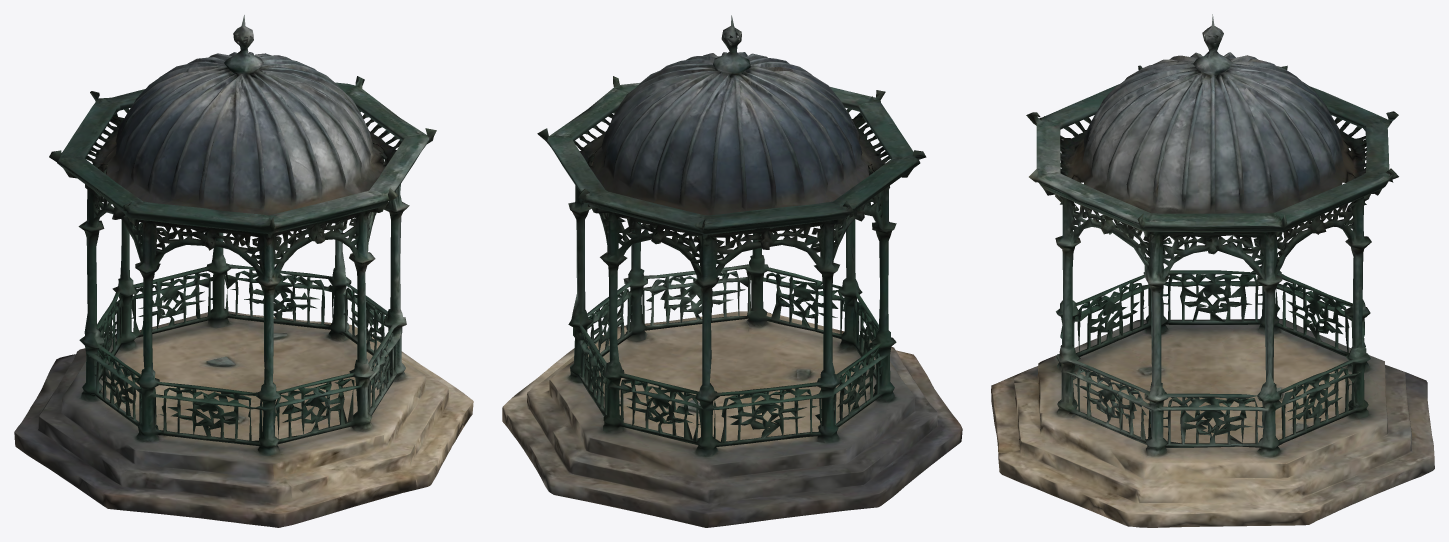
Rendered from gazebo.glb.
The picture shows the model from 3 angles, left to right: view 1: azimuth 30°, elevation 25°; view 2: azimuth 150°, elevation 25°; view 3: azimuth 270°, elevation 25°; orthographic projection.
Visible parts, largest first — view 1: Part; view 2: Part; view 3: Part.
Boxes of the visible parts, box(x1,y1,x2,y2) form: Part: box(14, 15, 473, 527); Part: box(502, 15, 962, 527); Part: box(991, 14, 1434, 527).
Size of the model in its own units: 5.69 by 6 by 5.72.
1 material, 1 textured.
